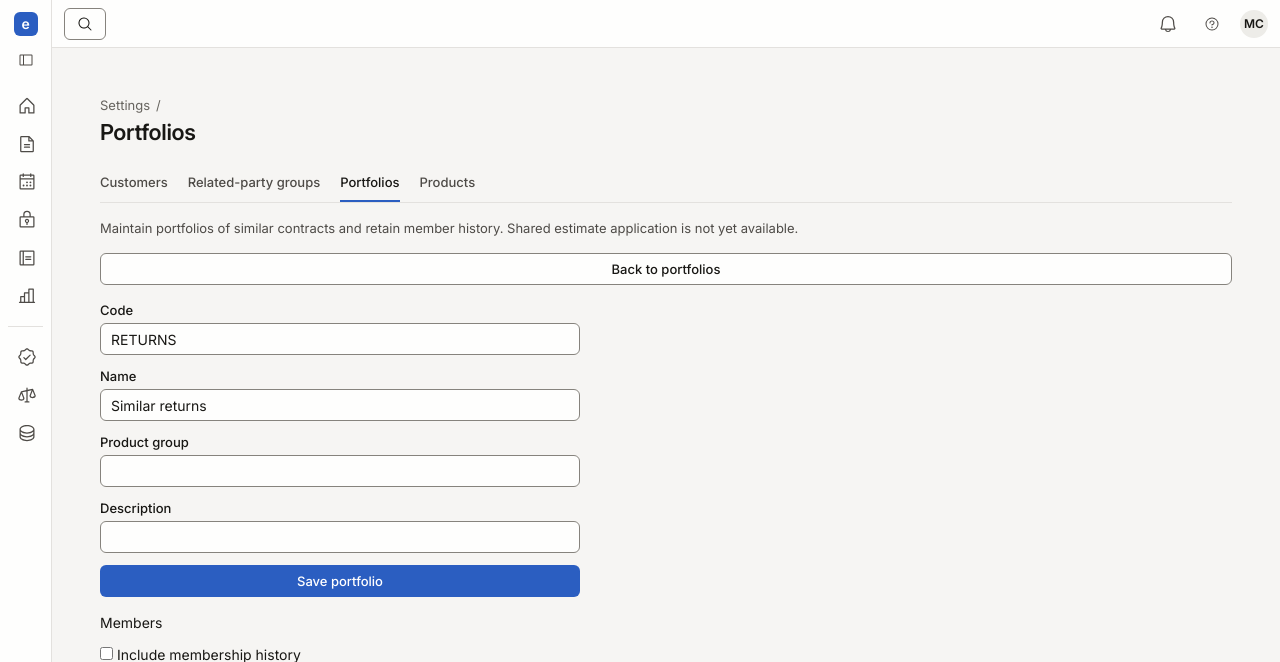
Test case: retains edits after a stale version refusal and explicitly reloads latest values
Replace the text in the field labelled "Name" with "My edits". click: coordinates (340, 405)
box: top-left (100, 389), bottom-right (580, 421)
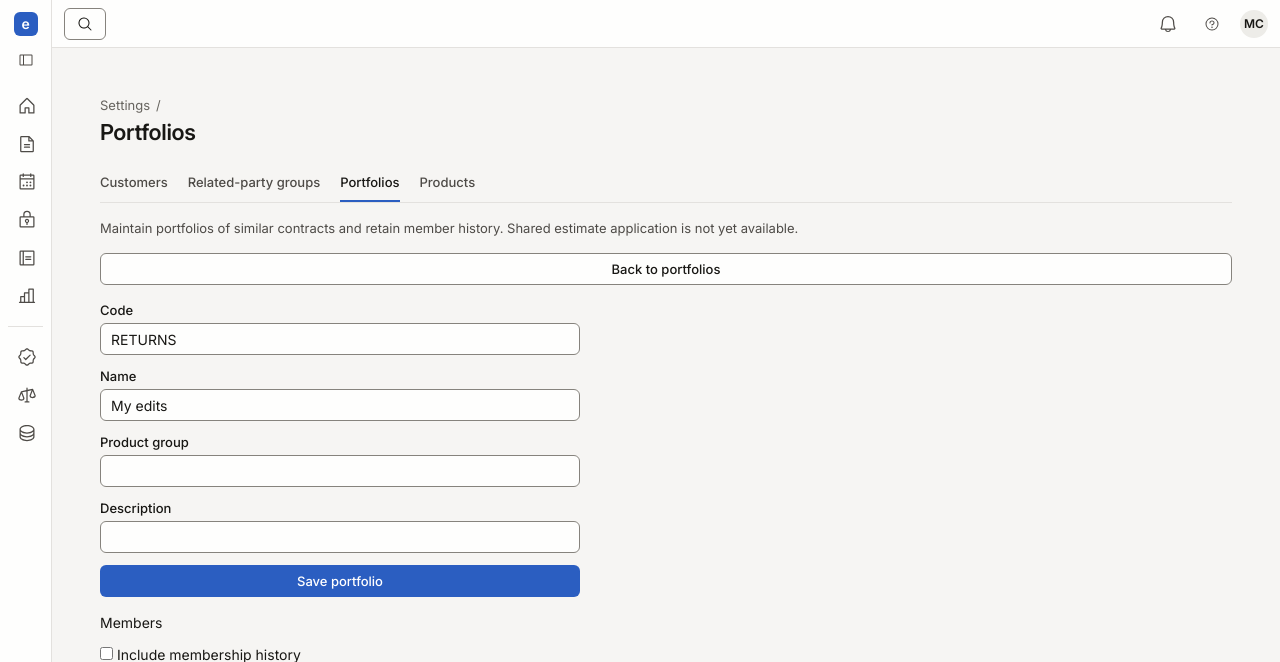
Click the button "Save portfolio". click: coordinates (340, 581)
box: top-left (100, 565), bottom-right (580, 597)
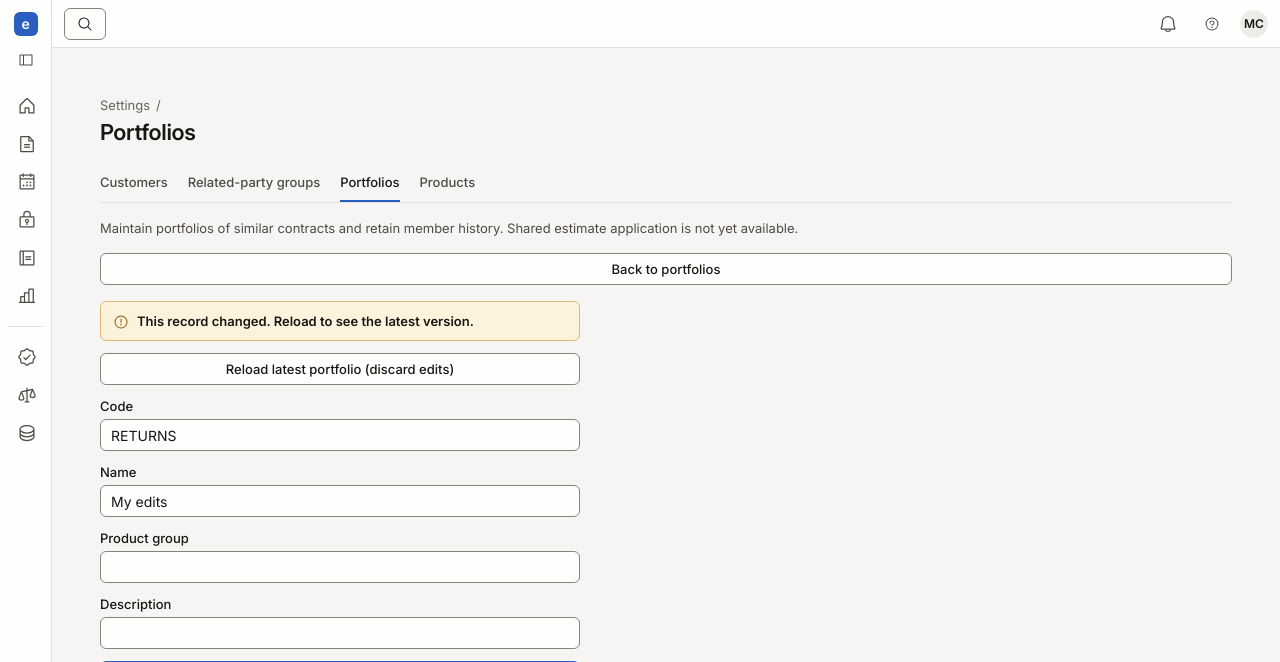
Click the button "Reload latest portfolio (discard edits)". click: coordinates (340, 369)
box: top-left (100, 353), bottom-right (580, 385)
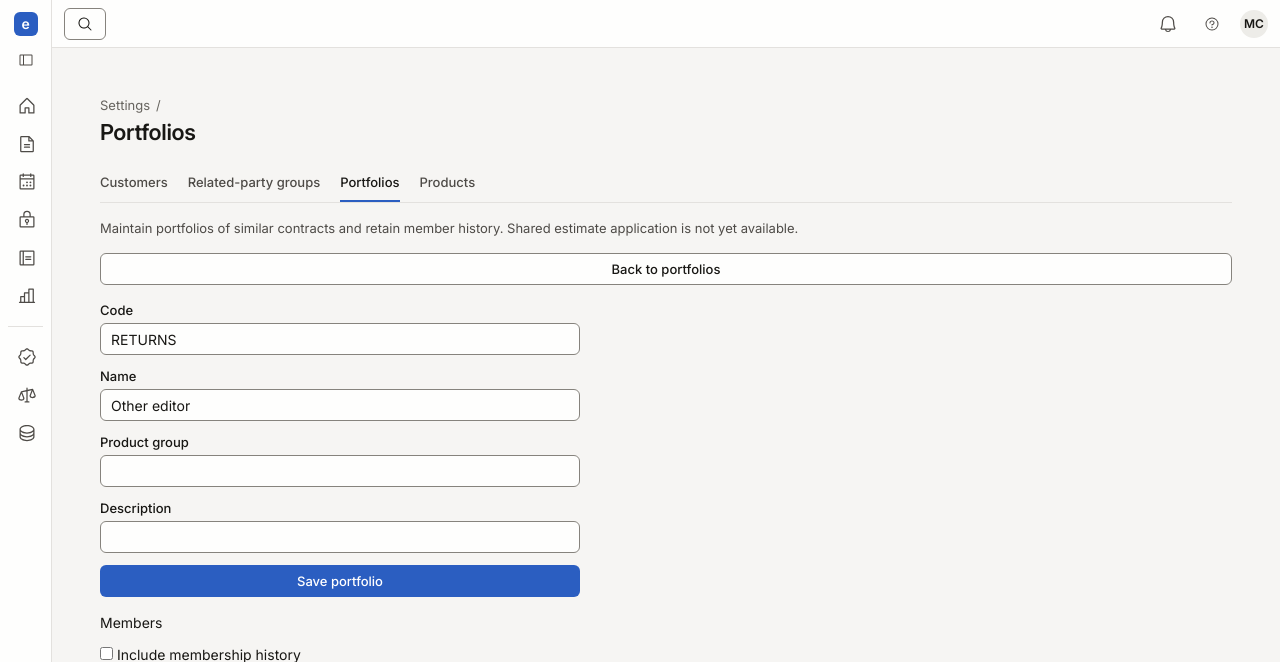
Result: the field labelled "Name" holds "Other editor" at top-left (100, 389), bottom-right (580, 421)
